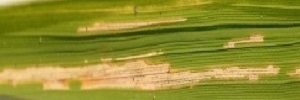RiceBacterialBlight: (2, 13, 300, 95)
